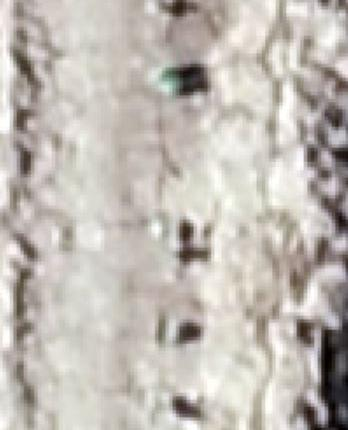cotton: (158, 68, 179, 91)
